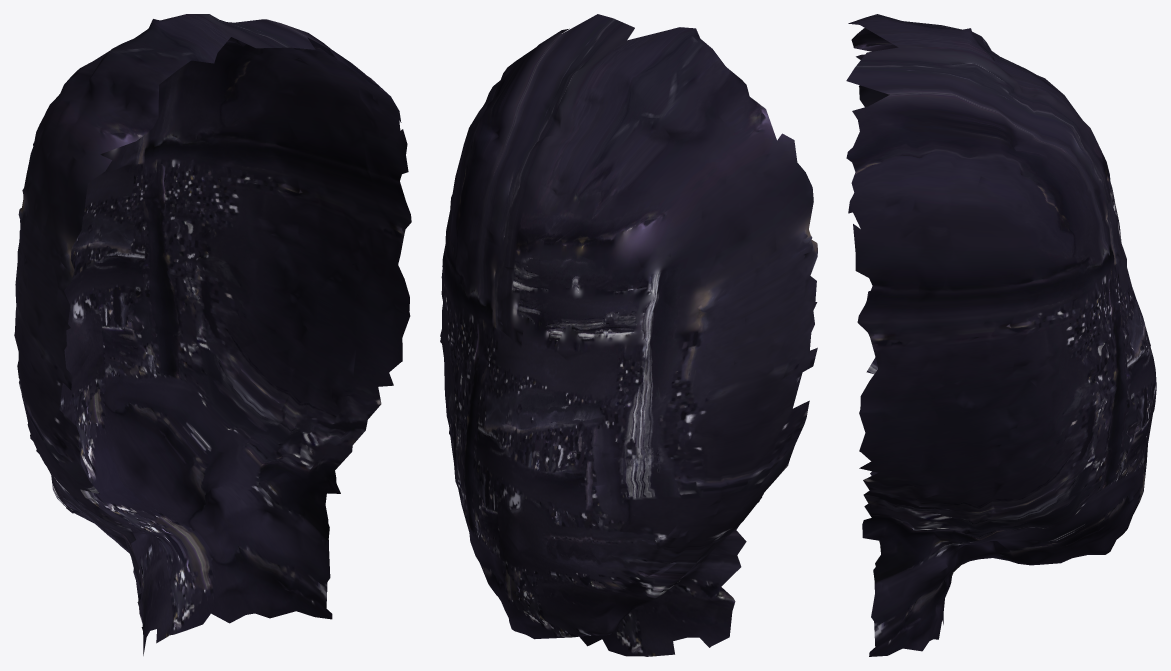
The model's file is hanzawaMaskHalf.obj.
The picture shows the model from 3 angles, left to right: view 1: azimuth 30°, elevation 25°; view 2: azimuth 150°, elevation 25°; view 3: azimuth 270°, elevation 25°; orthographic projection. The views are drawn at different scales.
Parts seen in each view (by area): view 1: default.001; view 2: default.001; view 3: default.001.
Part boxes in pixels (x1,y1,x2,y2): default.001: (14, 14, 411, 655); default.001: (440, 14, 817, 656); default.001: (846, 14, 1156, 656).
Size of the model in its own units: 0.1408 by 0.2441 by 0.1162.
